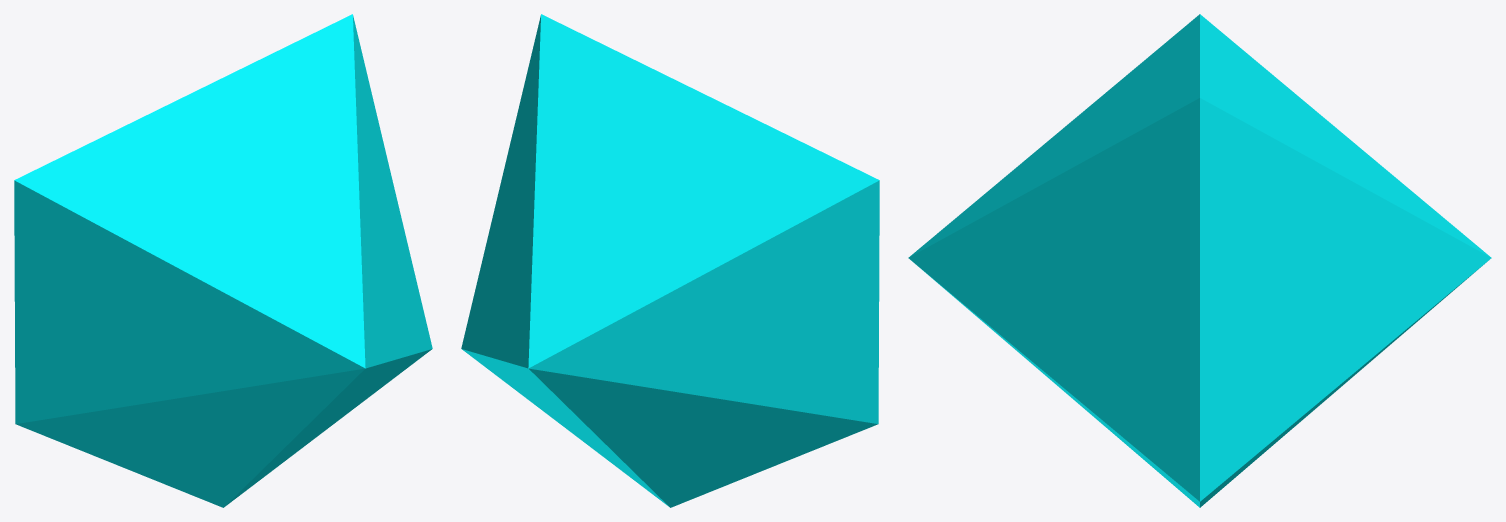
File: fragment.fbx
3 renders of one model, left to right at view 1: azimuth 30°, elevation 25°; view 2: azimuth 150°, elevation 25°; view 3: azimuth 270°, elevation 25°, orthographic. The views are drawn at different scales.
Parts seen in each view (by area): view 1: ICO球; view 2: ICO球; view 3: ICO球.
Boxes of the visible parts, x1,y1,x2,y2 form: ICO球: (14, 14, 432, 507); ICO球: (461, 14, 879, 507); ICO球: (908, 14, 1491, 507).
Size of the model in its own units: 1.8 by 1.9 by 2.12.
